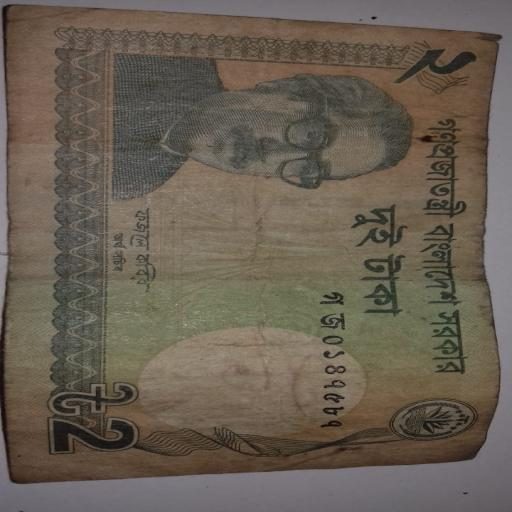2taka: (2, 6, 489, 470)
